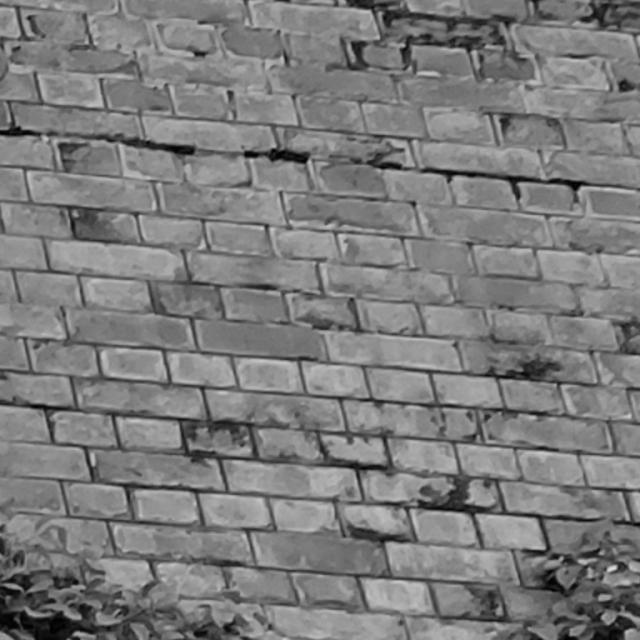crack: (1, 126, 587, 201)
